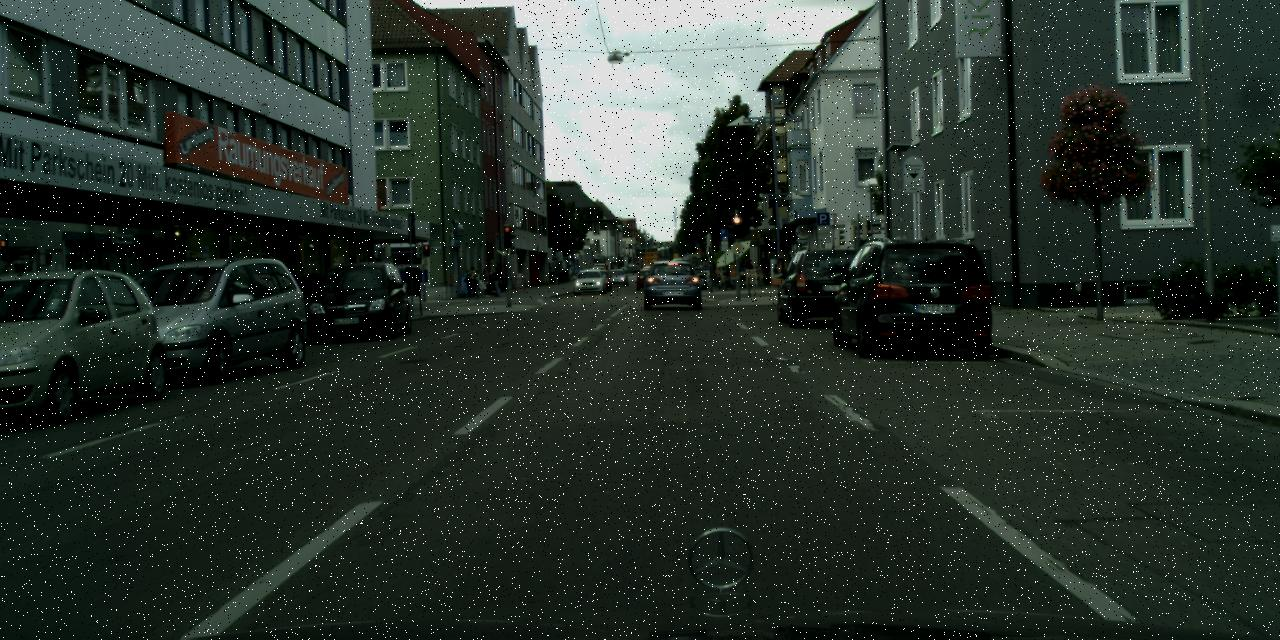ped: (482, 268, 502, 299), (465, 266, 477, 298)
